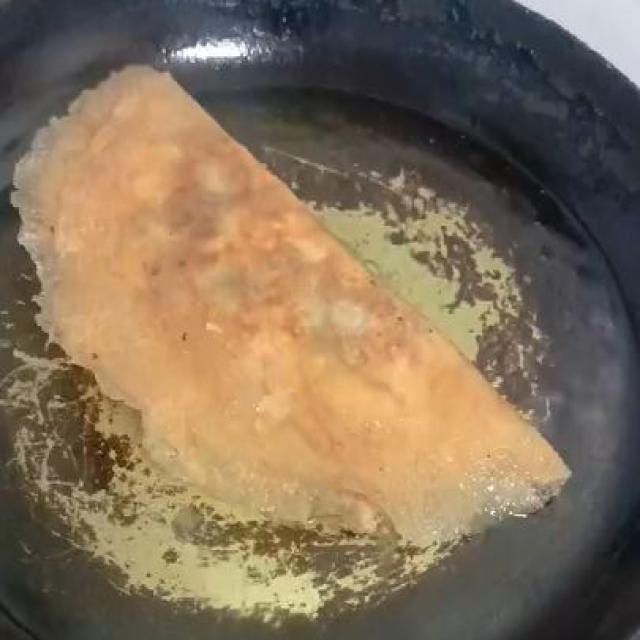brik: (0, 55, 575, 530)
